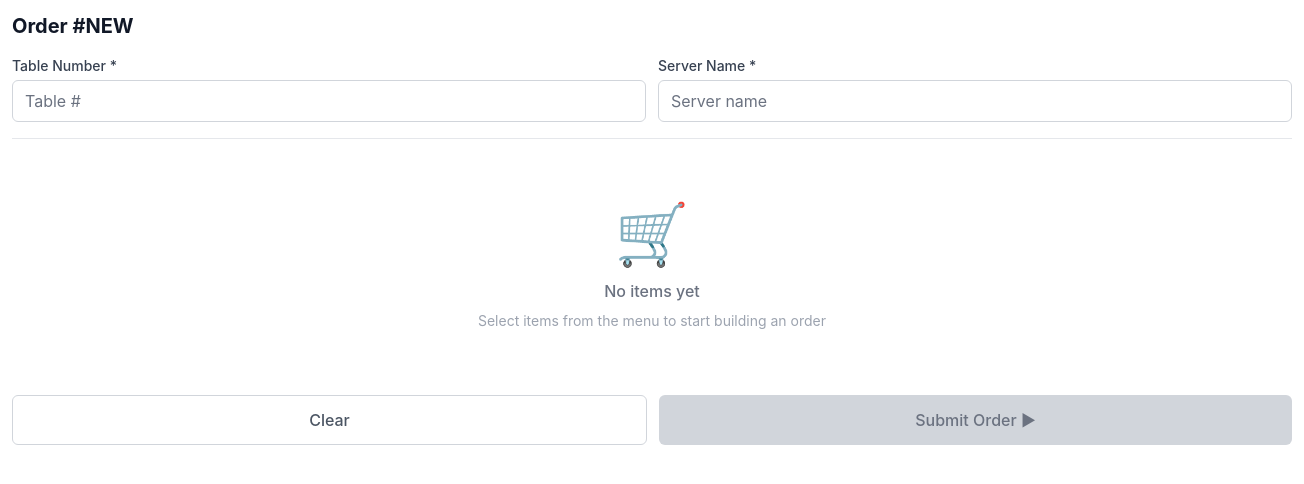
OrderBuilder › updates server name in context
In the field labelled "Server Name *": (975, 101) [658,80,1292,122], type "John"
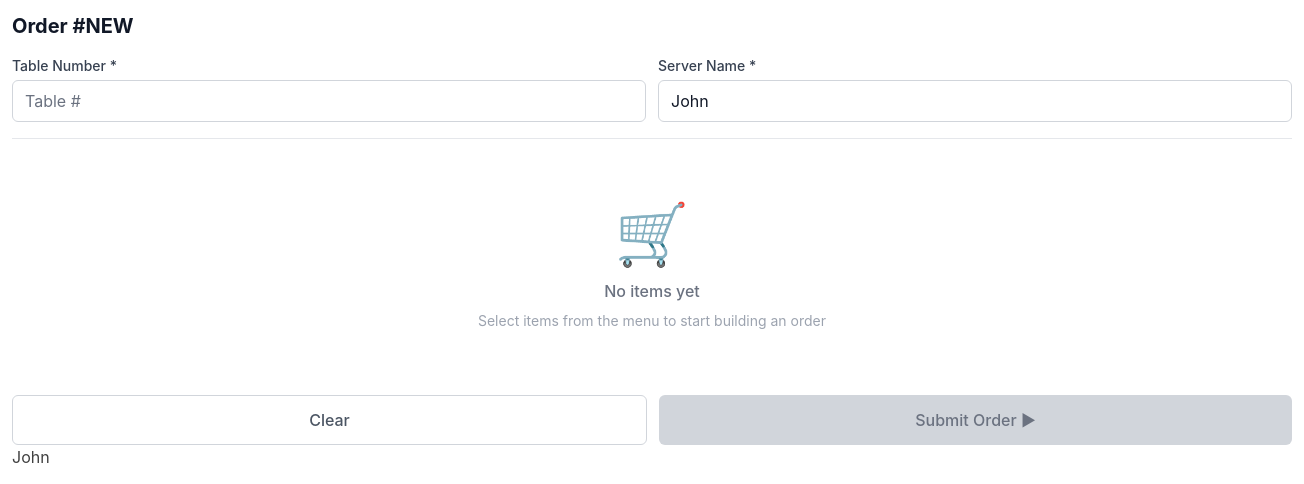
Expected: the text with test id "server-value" reads "John", [12,447,50,467]
